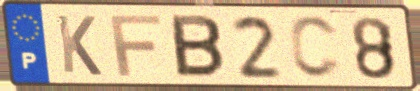2: (228, 13, 285, 80)
8: (349, 14, 399, 81)
B: (168, 12, 227, 80)
C: (287, 14, 344, 82)
F: (107, 13, 164, 79)
K: (54, 12, 105, 78)
